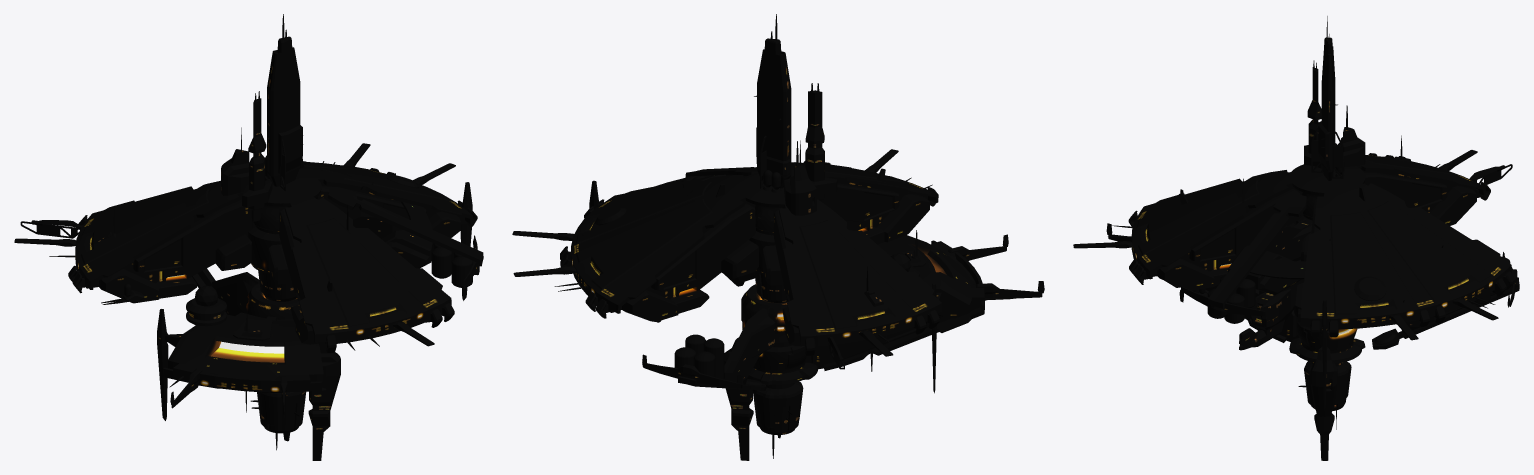
The model's file is tr1_st_dock_02.glb.
3 views of the same model, side by side, from view 1: azimuth 30°, elevation 25°; view 2: azimuth 150°, elevation 25°; view 3: azimuth 270°, elevation 25° (orthographic). The views are drawn at different scales.
Parts seen in each view (by area): view 1: tr1_station_02_base, tr1_station_02_parts; view 2: tr1_station_02_base, tr1_station_02_parts; view 3: tr1_station_02_base, tr1_station_02_parts.
Boxes of the visible parts, x1,y1,x2,y2 form: tr1_station_02_base: (75,36,483,433); tr1_station_02_parts: (14,14,477,460); tr1_station_02_base: (571,38,984,434); tr1_station_02_parts: (512,14,1044,460); tr1_station_02_base: (1131,37,1519,410); tr1_station_02_parts: (1073,16,1515,460).
Size of the model in its own units: 82.36 by 86.96 by 81.74.
Materials: 3 (3 with a texture image).
